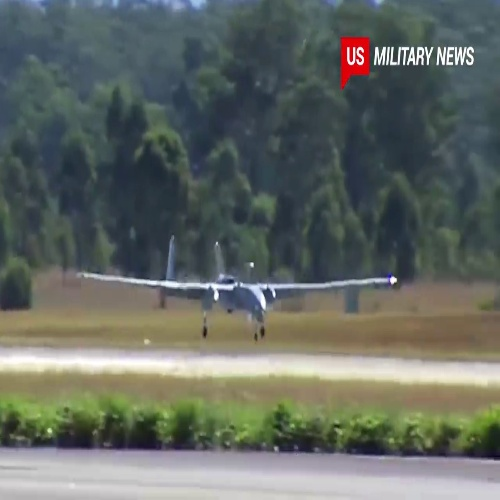uav431: (73, 231, 398, 340)
